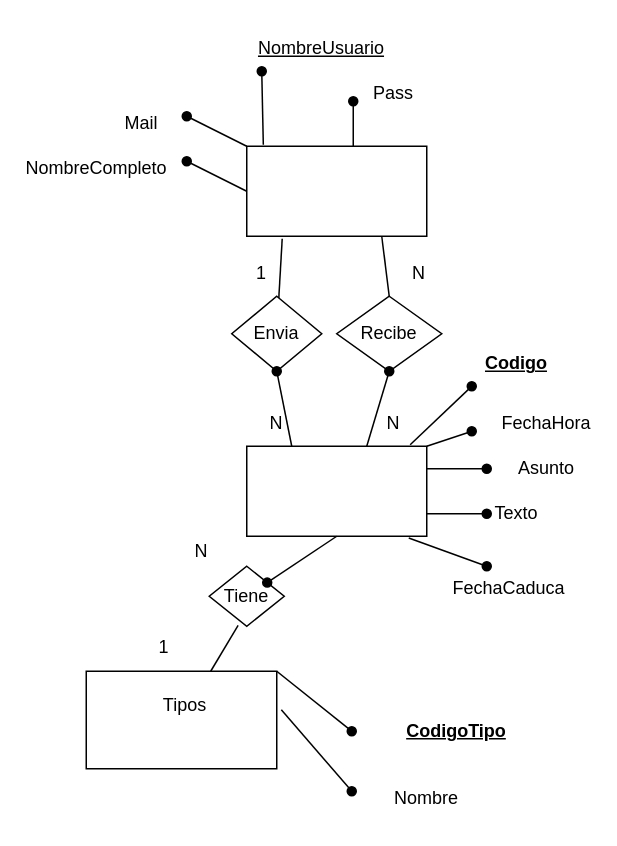
Some shapes in this 617 by 846 pixel diagram are drawn without their labels. The box of each missing label's shape, as (x1, y1, x2, y2) in pixels:
Mensajes: (245, 445, 427, 536)
Usuarios: (245, 145, 427, 236)
